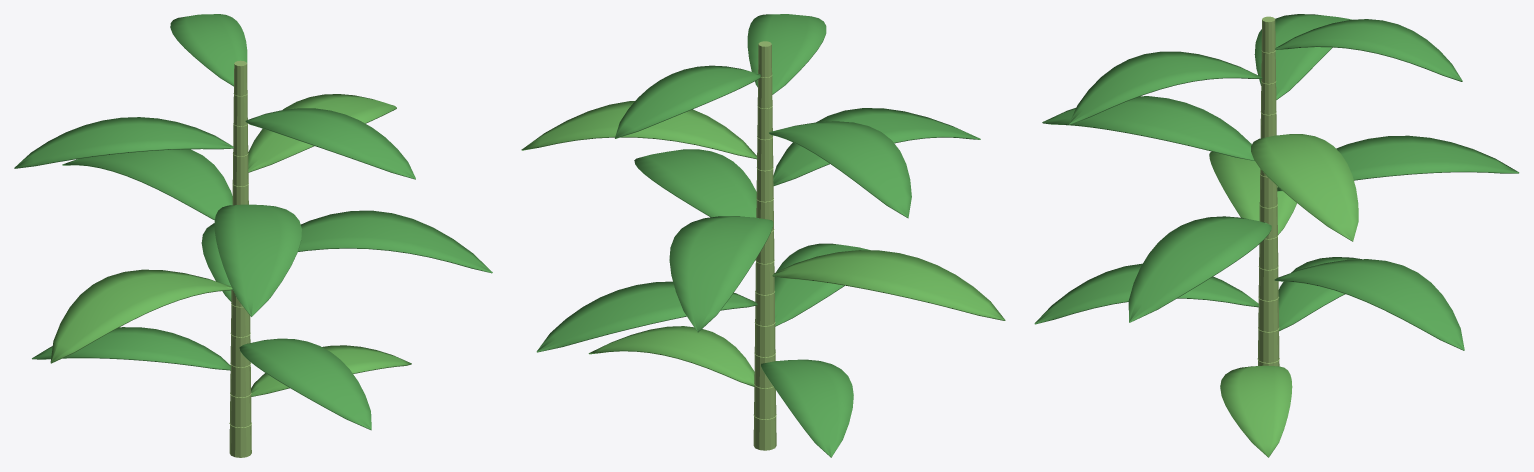
The picture shows the model from 3 angles, left to right: view 1: azimuth 30°, elevation 25°; view 2: azimuth 150°, elevation 25°; view 3: azimuth 270°, elevation 25°; orthographic projection. The views are drawn at different scales.
Parts seen in each view (by area): view 1: 叶片_08, 叶片_05, 叶片_06, 叶片_03, 叶片_10, 叶片_07, 叶片_11, 叶片_02, 叶片_12, 叶片_09, 叶片_01, 叶片_04 (+7 smaller); view 2: 叶片_07, 叶片_05, 叶片_10, 叶片_06, 叶片_02, 叶片_04, 叶片_09, 叶片_12, 叶片_01, 叶片_08, 叶片_11, 叶片_03 (+9 smaller); view 3: 叶片_06, 叶片_09, 叶片_04, 叶片_08, 叶片_11, 叶片_07, 叶片_01, 叶片_12, 叶片_03, 叶片_10, 叶片_05, 叶片_02 (+7 smaller).
Part boxes in pixels (left/top/right/bottom): 叶片_08: left=214, top=204, right=301, bottom=316; 叶片_05: left=50, top=269, right=232, bottom=363; 叶片_06: left=298, top=210, right=492, bottom=273; 叶片_03: left=239, top=338, right=371, bottom=430; 叶片_10: left=14, top=117, right=233, bottom=168; 叶片_07: left=62, top=149, right=232, bottom=220; 叶片_11: left=245, top=108, right=415, bottom=179; 叶片_02: left=32, top=327, right=230, bottom=370; 叶片_12: left=170, top=14, right=247, bottom=86; 叶片_09: left=248, top=94, right=396, bottom=172; 叶片_01: left=251, top=345, right=411, bottom=396; 叶片_04: left=201, top=223, right=231, bottom=301; 叶片_07: left=669, top=216, right=773, bottom=332; 叶片_05: left=772, top=250, right=1005, bottom=320; 叶片_10: left=769, top=121, right=911, bottom=218; 叶片_06: left=634, top=149, right=756, bottom=217; 叶片_02: left=761, top=359, right=853, bottom=457; 叶片_04: left=536, top=281, right=757, bottom=352; 叶片_09: left=521, top=101, right=756, bottom=159; 叶片_12: left=615, top=65, right=760, bottom=138; 叶片_01: left=588, top=326, right=754, bottom=386; 叶片_08: left=773, top=108, right=980, bottom=185; 叶片_11: left=747, top=14, right=826, bottom=94; 叶片_03: left=774, top=243, right=870, bottom=326; 叶片_06: left=1128, top=216, right=1271, bottom=322; 叶片_09: left=1251, top=134, right=1358, bottom=241; 叶片_04: left=1274, top=259, right=1464, bottom=350; 叶片_08: left=1042, top=96, right=1254, bottom=161; 叶片_11: left=1069, top=51, right=1262, bottom=124; 叶片_07: left=1277, top=135, right=1519, bottom=191; 叶片_01: left=1220, top=365, right=1292, bottom=457; 叶片_12: left=1275, top=19, right=1462, bottom=81; 叶片_03: left=1034, top=263, right=1259, bottom=324; 叶片_10: left=1254, top=14, right=1352, bottom=99; 叶片_05: left=1209, top=151, right=1296, bottom=234; 叶片_02: left=1278, top=257, right=1361, bottom=331.
Bounding box in the file's own units: 1.55 × 1.42 × 1.55.
